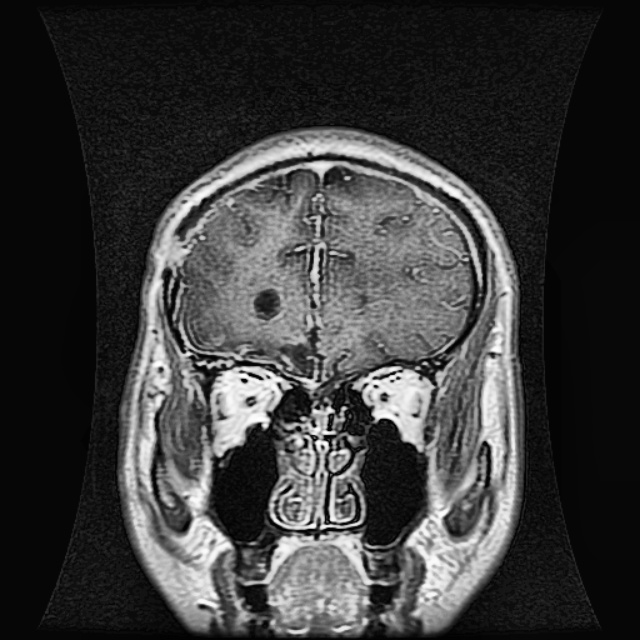Meningioma: (250, 284, 284, 319)
